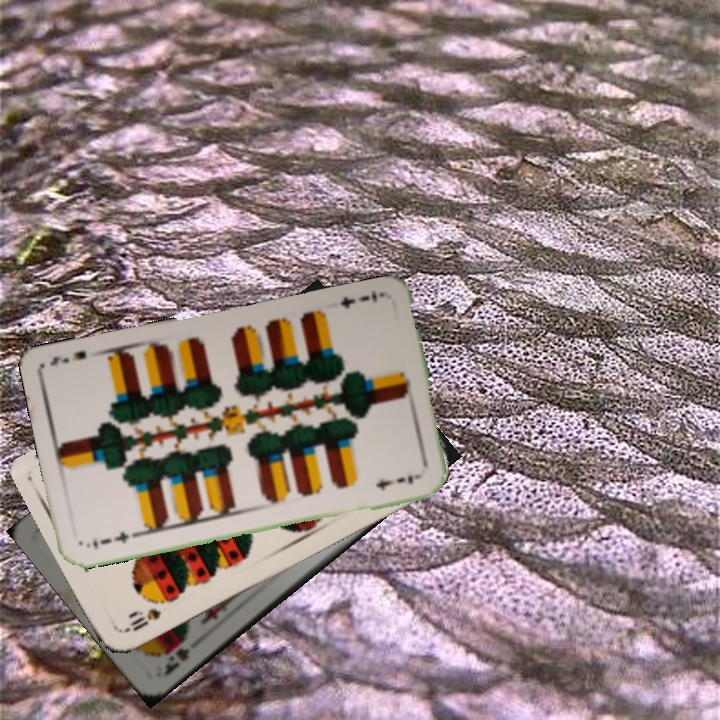E7: (81, 528, 139, 553), (336, 286, 380, 311)
S10: (117, 604, 164, 635)
SK: (160, 632, 192, 679)
